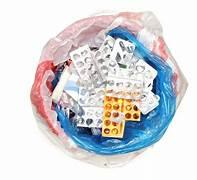pill_Strip: (100, 44, 156, 120), (64, 75, 102, 127), (102, 96, 140, 137), (52, 68, 83, 117), (65, 86, 102, 127), (60, 92, 102, 127), (70, 45, 102, 86), (121, 59, 156, 91), (94, 36, 119, 79), (77, 86, 103, 127), (102, 96, 124, 137), (106, 77, 142, 99), (70, 45, 91, 80), (121, 69, 153, 91), (121, 59, 156, 79), (110, 99, 140, 122), (52, 66, 70, 103), (111, 38, 134, 66), (135, 59, 156, 88), (59, 91, 83, 116), (133, 91, 159, 114), (78, 86, 104, 106), (77, 107, 102, 127), (120, 54, 139, 77), (94, 50, 108, 80), (137, 27, 156, 48), (136, 59, 156, 78), (64, 73, 78, 100), (122, 99, 140, 120), (88, 61, 102, 87), (120, 65, 143, 80), (99, 35, 114, 56), (58, 91, 75, 108), (108, 57, 122, 76), (61, 107, 76, 124), (127, 54, 139, 68), (110, 110, 124, 122), (65, 108, 76, 122), (143, 80, 152, 92), (91, 127, 101, 135)
